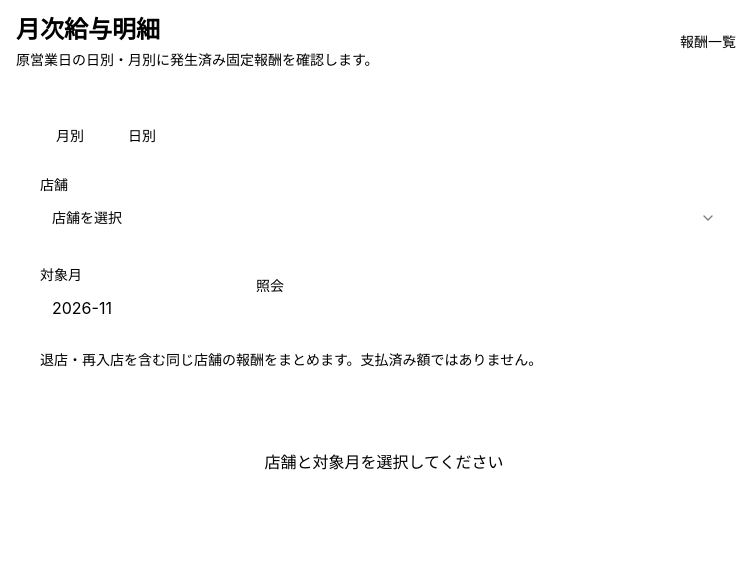
店舗未選択と不正な月は関連付けた入力エラーを示す
expect the dropdown labelled "店舗" is shown: met, box [40,200,728,236]
Replace the text in the field labelled "対象月" with "0000-01" at point(128, 308), box [40,290,216,326]
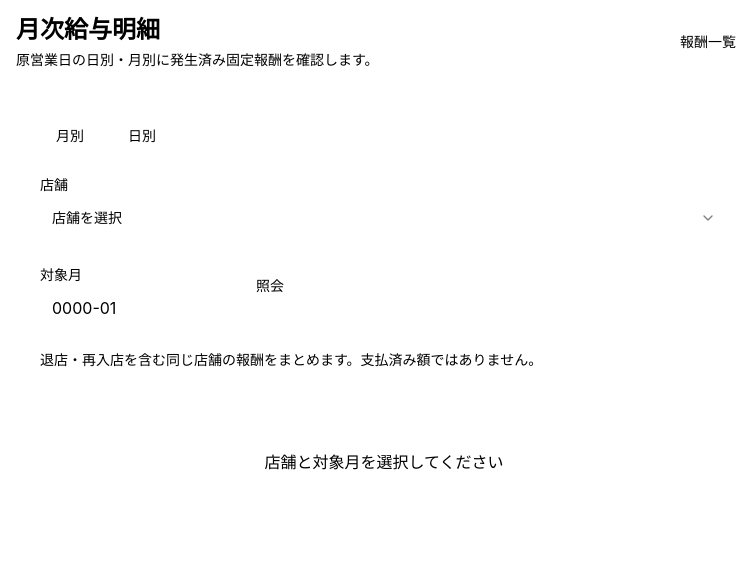
Click the button "照会" at point(270, 286), box [240,268,300,304]
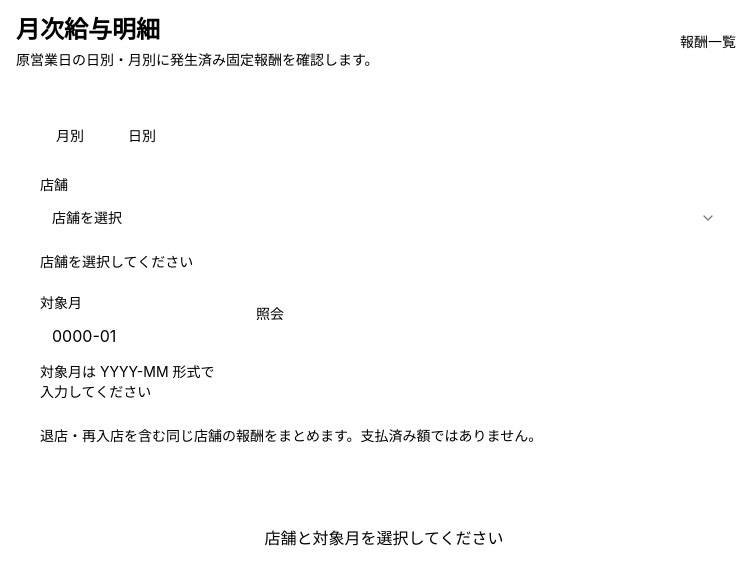
expect the text "店舗を選択してください" is shown: met, box [40,253,193,270]
expect the text "対象月は YYYY-MM 形式で入力してください" is shown: met, box [40,362,216,402]
